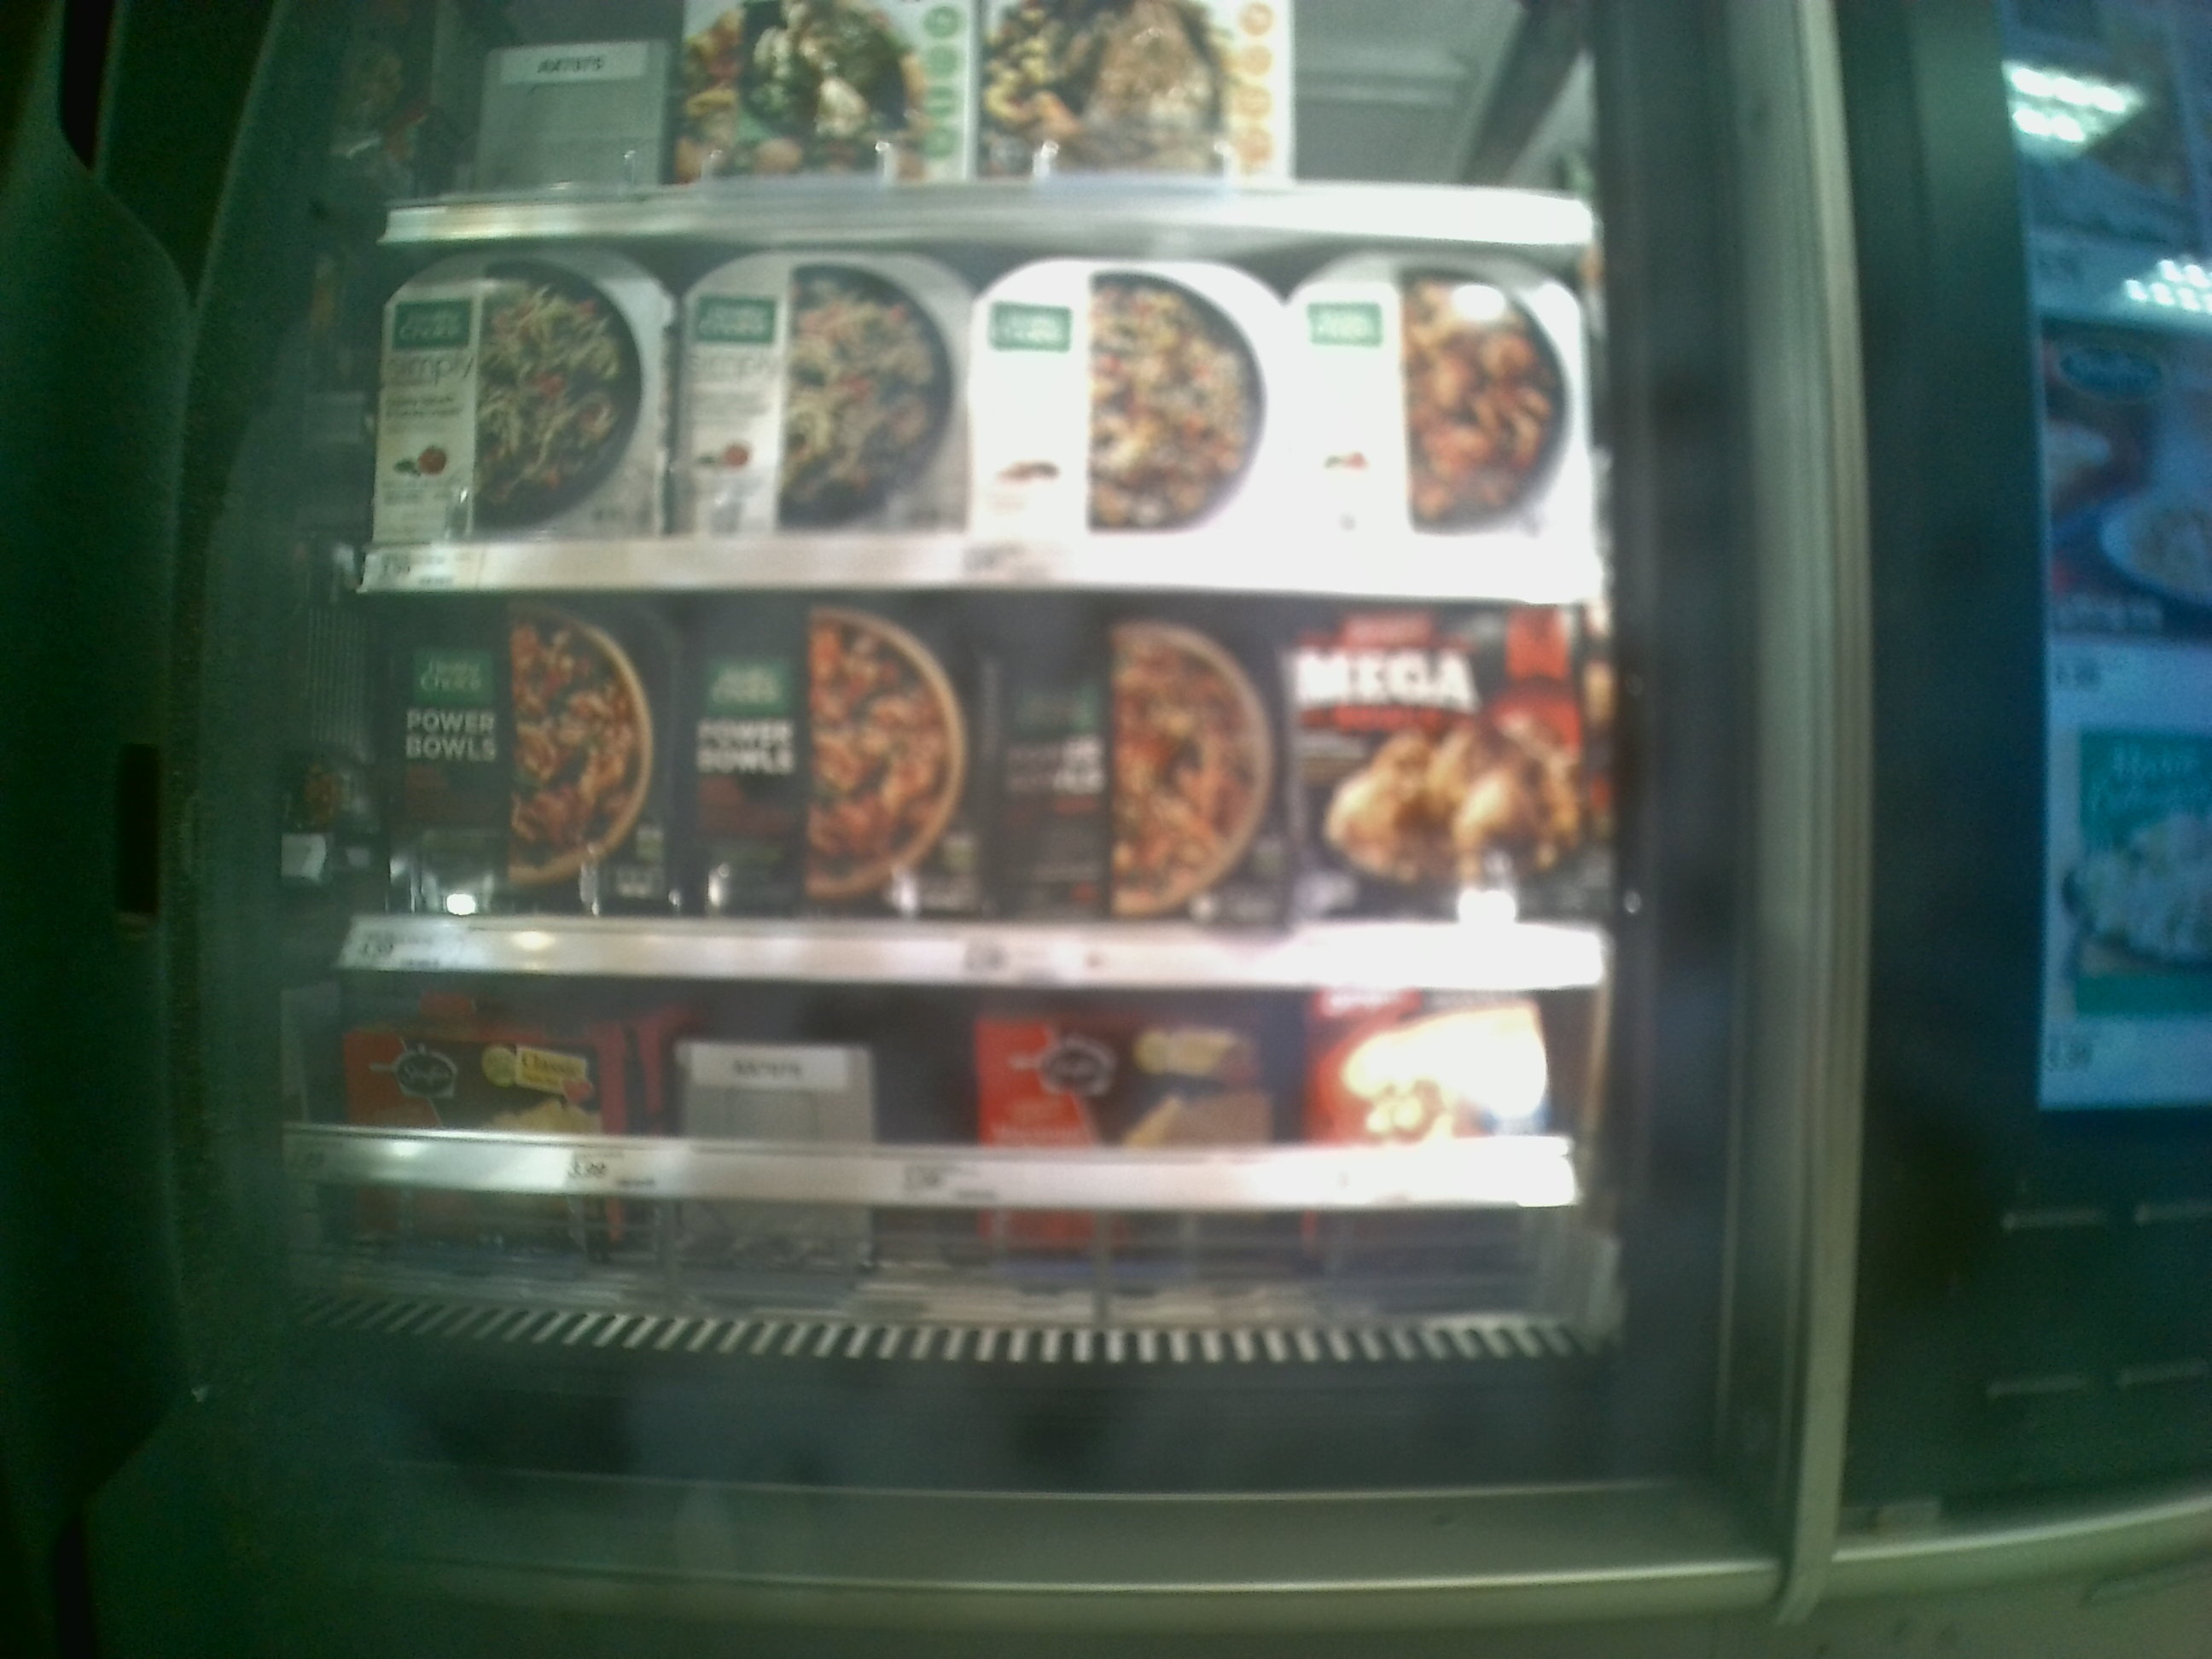shelf: (291, 974, 1601, 1424), (355, 592, 1609, 995), (347, 221, 1599, 606)
